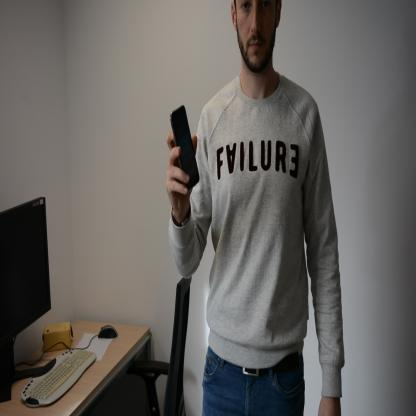smartphone: (169, 104, 200, 193)
